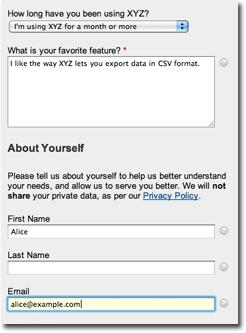dropdown: (8, 18, 190, 35)
textbox: (5, 294, 220, 314)
